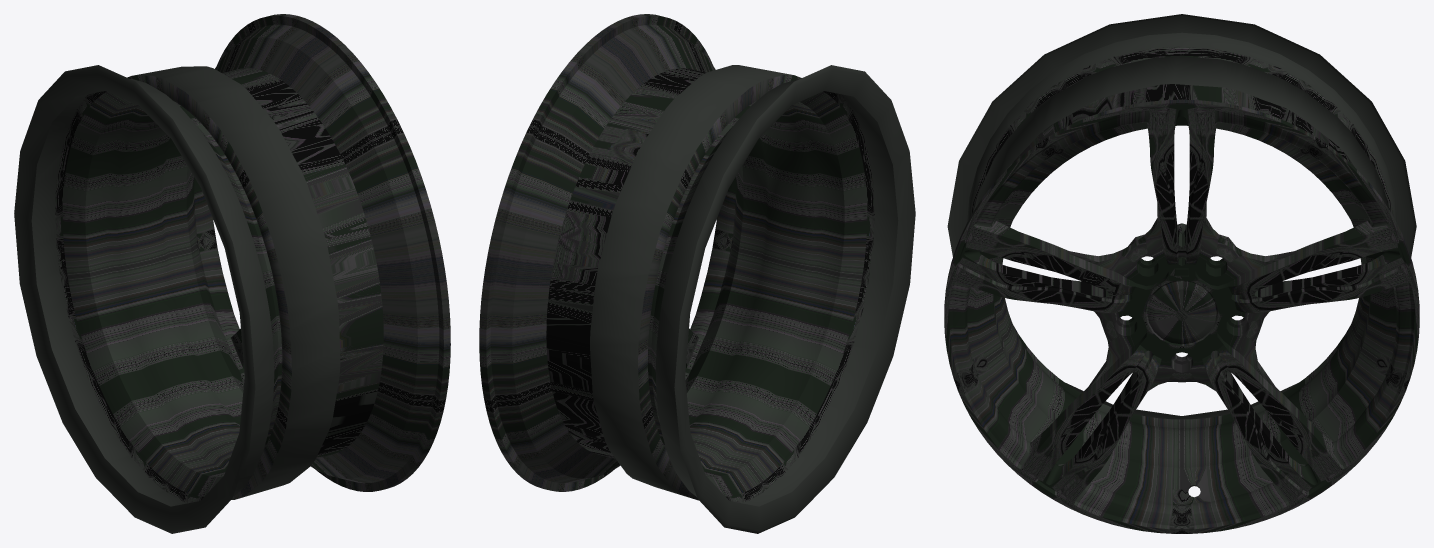
File: rearright1.glb
3 views of the same model, side by side, from view 1: azimuth 30°, elevation 25°; view 2: azimuth 150°, elevation 25°; view 3: azimuth 270°, elevation 25° (orthographic). The views are drawn at different scales.
Parts seen in each view (by area): view 1: Rear Right Wheel; view 2: Rear Right Wheel; view 3: Rear Right Wheel.
Part boxes in pixels (x1,y1,x2,y2): Rear Right Wheel: [14, 14, 450, 533]; Rear Right Wheel: [479, 14, 915, 533]; Rear Right Wheel: [944, 14, 1419, 533].
Size of the model in its own units: 0.2953 by 0.6234 by 0.6234.
Materials: 1 (1 with a texture image).
